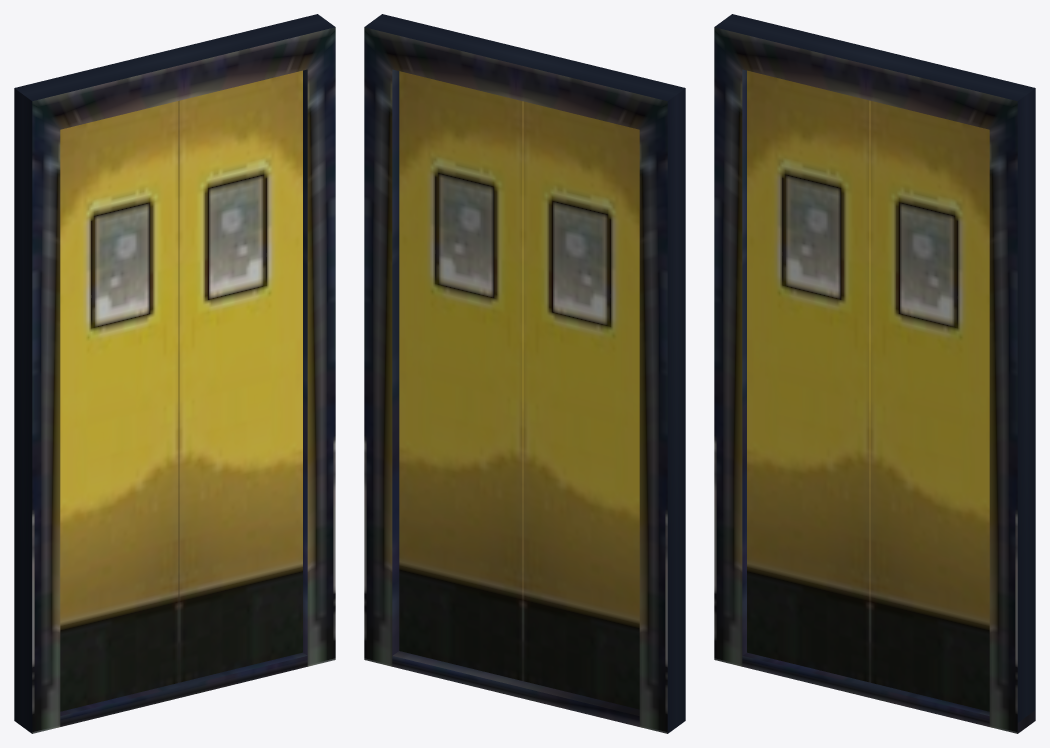
File: door k and r.glb
3 views of the same model, side by side, from view 1: azimuth 30°, elevation 25°; view 2: azimuth 150°, elevation 25°; view 3: azimuth 330°, elevation 25° (orthographic).
Parts seen in each view (by area): view 1: door left_001, door left, main; view 2: door left_001, main, door left; view 3: door left, door left_001, main.
Boxes of the visible parts, x1,y1,x2,y2 form: door left_001: (178,70,302,682); door left: (60,101,178,711); main: (14,14,335,733); door left_001: (399,71,523,680); main: (364,14,685,733); door left: (523,101,639,709); door left: (747,70,870,682); door left_001: (870,100,989,711); main: (714,14,1035,733).
Bounding box in the file's own units: 0.7796 × 1.55 × 0.0802.
Materials: 1 (1 with a texture image).
